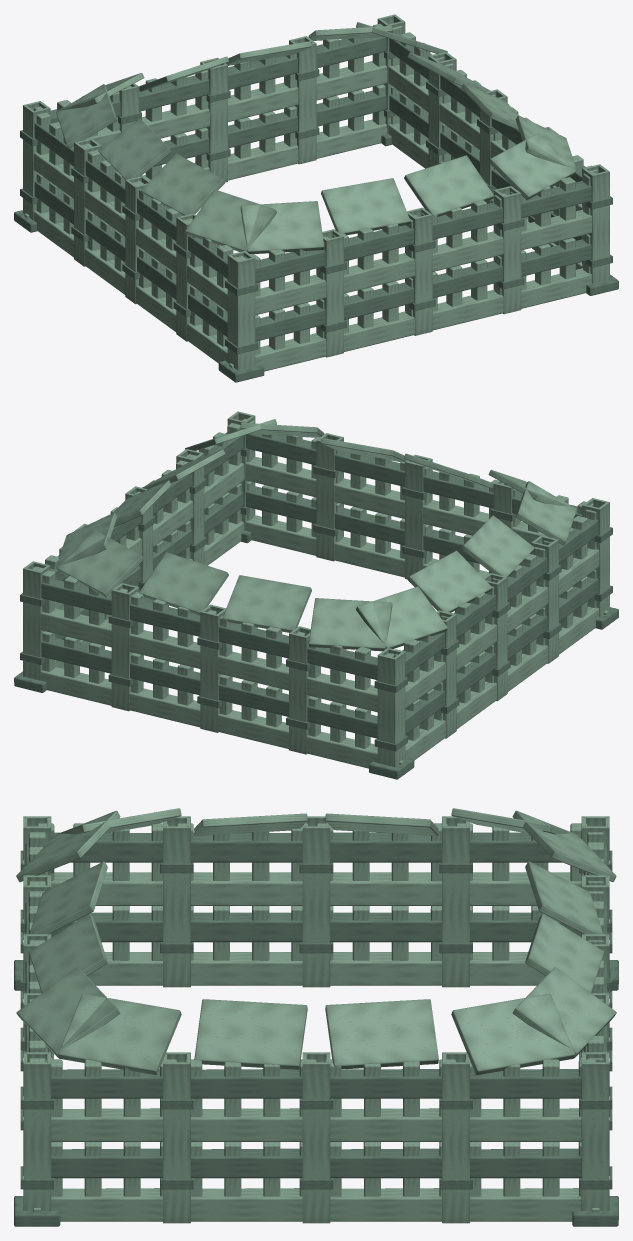
3 views of the same model, one above another, from view 1: azimuth 30°, elevation 25°; view 2: azimuth 150°, elevation 25°; view 3: azimuth 270°, elevation 25° (orthographic). The views are drawn at different scales.
Parts seen in each view (by area): view 1: Crown alloy petal 0-1, Crown alloy petal 0-0, Crown alloy petal 0-2, Crown alloy petal 3-3, Crown alloy petal 3-2, Tier 0 side 0 post 0, Crown alloy petal 0-3, Crown alloy petal 3-1, Tier 0 side 0 post 3, Tier 0 side 0 post 2, Tier 0 side 0 post 1, Tier 0 side 2 post 1 (+70 smaller); view 2: Crown alloy petal 2-2, Crown alloy petal 2-3, Crown alloy petal 2-1, Crown alloy petal 3-0, Crown alloy petal 3-1, Tier 0 side 3 post 0, Crown alloy petal 2-0, Crown alloy petal 3-2, Tier 0 side 2 post 1, Tier 0 side 2 post 2, Tier 0 side 2 post 3, Tier 0 side 0 post 3 (+70 smaller); view 3: Crown alloy petal 1-1, Crown alloy petal 1-2, Crown alloy petal 1-3, Crown alloy petal 1-0, Tier 0 side 1 post 2, Tier 0 side 3 post 2, Tier 0 side 1 post 1, Tier 0 side 1 post 3, Tier 0 side 3 post 1, Tier 0 side 3 post 3, Crown alloy petal 0-3, Crown alloy petal 2-0 (+70 smaller).
Part boxes in pixels (left/top/right/bottom): Crown alloy petal 0-1: left=321, top=178, right=410, bottom=235; Crown alloy petal 0-0: left=240, top=201, right=324, bottom=254; Crown alloy petal 0-2: left=404, top=155, right=494, bottom=216; Crown alloy petal 3-3: left=185, top=189, right=276, bottom=251; Crown alloy petal 3-2: left=140, top=153, right=225, bottom=215; Tier 0 side 0 post 0: left=227, top=251, right=255, bottom=369; Crown alloy petal 0-3: left=488, top=133, right=576, bottom=200; Crown alloy petal 3-1: left=98, top=118, right=171, bottom=179; Tier 0 side 0 post 3: left=493, top=186, right=521, bottom=314; Tier 0 side 0 post 2: left=405, top=207, right=432, bottom=335; Tier 0 side 0 post 1: left=316, top=229, right=343, bottom=357; Tier 0 side 2 post 1: left=289, top=36, right=316, bottom=164; Crown alloy petal 2-2: left=222, top=575, right=311, bottom=632; Crown alloy petal 2-3: left=308, top=598, right=392, bottom=651; Crown alloy petal 2-1: left=139, top=552, right=228, bottom=615; Crown alloy petal 3-0: left=356, top=586, right=447, bottom=648; Crown alloy petal 3-1: left=407, top=550, right=492, bottom=612; Tier 0 side 3 post 0: left=377, top=648, right=405, bottom=766; Crown alloy petal 2-0: left=57, top=530, right=143, bottom=597; Crown alloy petal 3-2: left=461, top=515, right=534, bottom=576; Tier 0 side 2 post 1: left=111, top=583, right=139, bottom=711; Tier 0 side 2 post 2: left=200, top=604, right=225, bottom=732; Tier 0 side 2 post 3: left=289, top=626, right=310, bottom=754; Tier 0 side 0 post 3: left=316, top=433, right=343, bottom=561; Crown alloy petal 1-1: left=194, top=999, right=307, bottom=1069; Crown alloy petal 1-2: left=325, top=999, right=438, bottom=1069; Crown alloy petal 1-3: left=451, top=993, right=575, bottom=1075; Crown alloy petal 1-0: left=58, top=993, right=181, bottom=1075; Tier 0 side 1 post 2: left=302, top=1052, right=330, bottom=1223; Tier 0 side 3 post 2: left=302, top=816, right=330, bottom=987; Tier 0 side 1 post 1: left=163, top=1052, right=190, bottom=1223; Tier 0 side 1 post 3: left=442, top=1052, right=469, bottom=1223; Tier 0 side 3 post 1: left=442, top=816, right=469, bottom=987; Tier 0 side 3 post 3: left=163, top=816, right=190, bottom=987; Crown alloy petal 0-3: left=16, top=967, right=120, bottom=1058; Crown alloy petal 2-0: left=512, top=967, right=616, bottom=1058.
Bounding box in the file's own units: 1.95 × 0.6767 × 1.95.
Materials: 2 (2 with a texture image).
